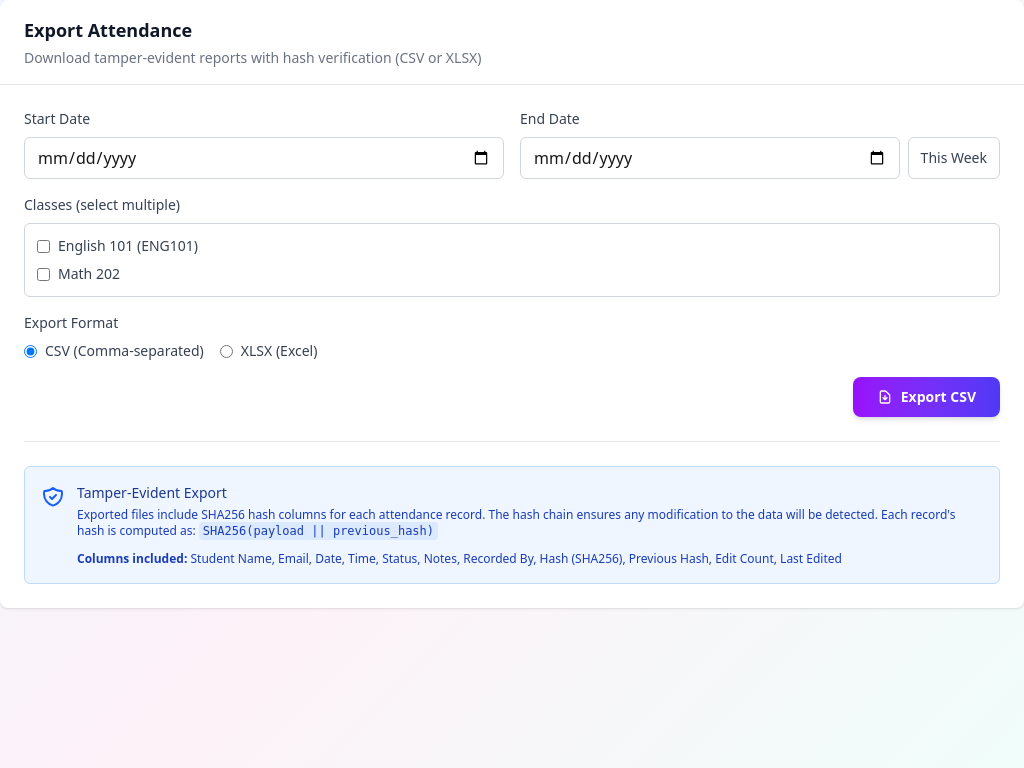
AttendanceExport Component › should display export metadata after successful export
Select a class and set dates
Click the checkbox labelled "English 101 (ENG101)" at (44, 246), box left=37, top=240, right=50, bottom=252
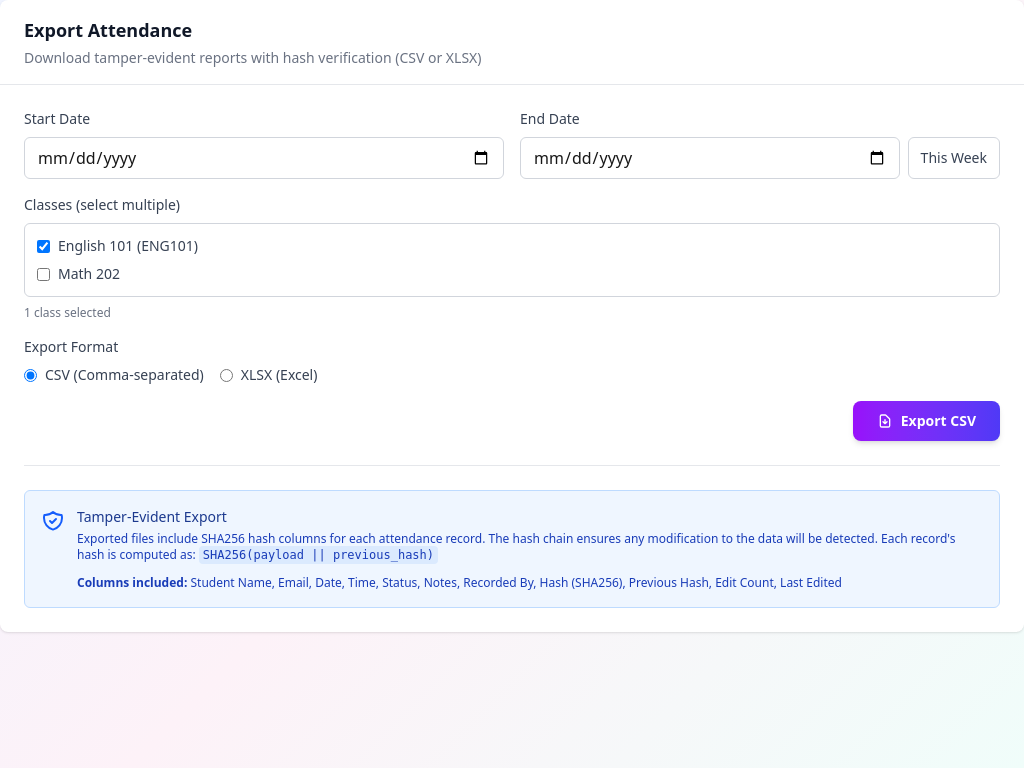
Type "2024-01-08" into the date field labelled "Start Date" at (264, 158), box left=24, top=137, right=504, bottom=179
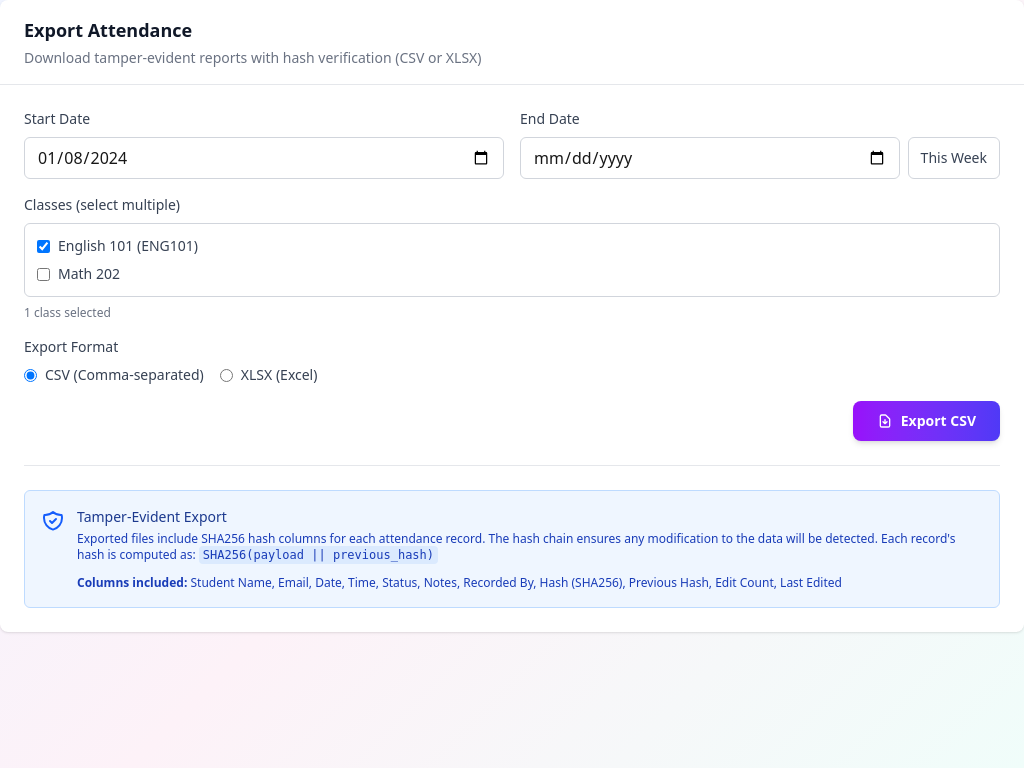
Type "2024-01-14" into the date field labelled "End Date" at (710, 158), box left=520, top=137, right=900, bottom=179
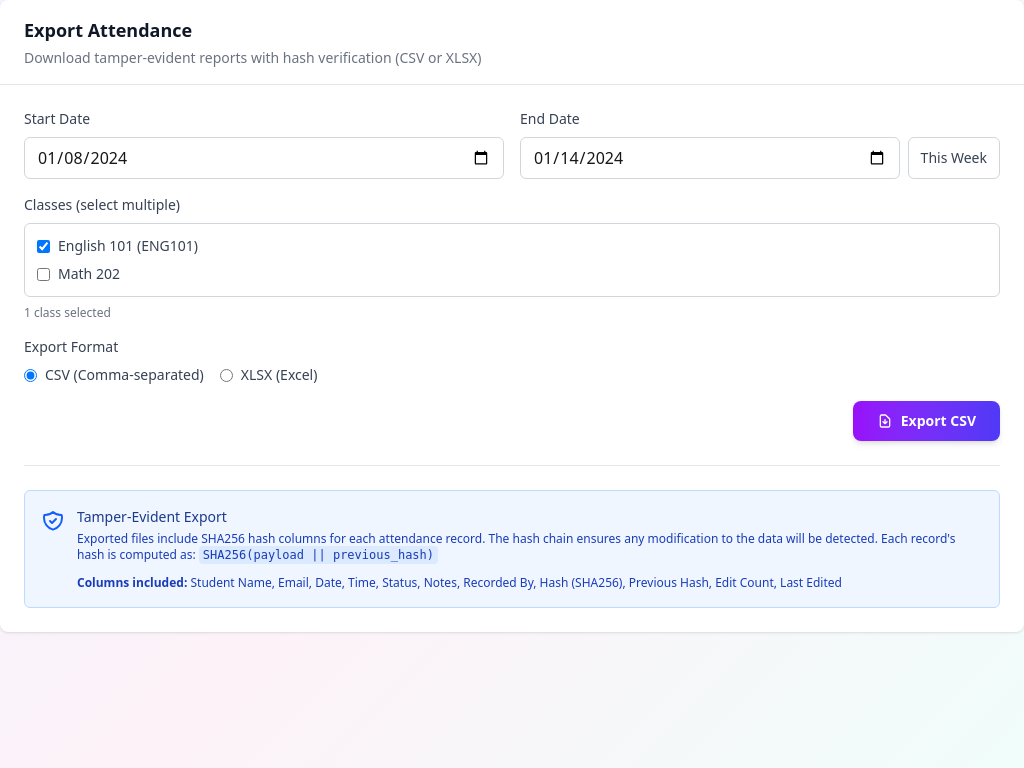
Click the button "Export CSV" at (926, 421), box left=853, top=401, right=1000, bottom=441
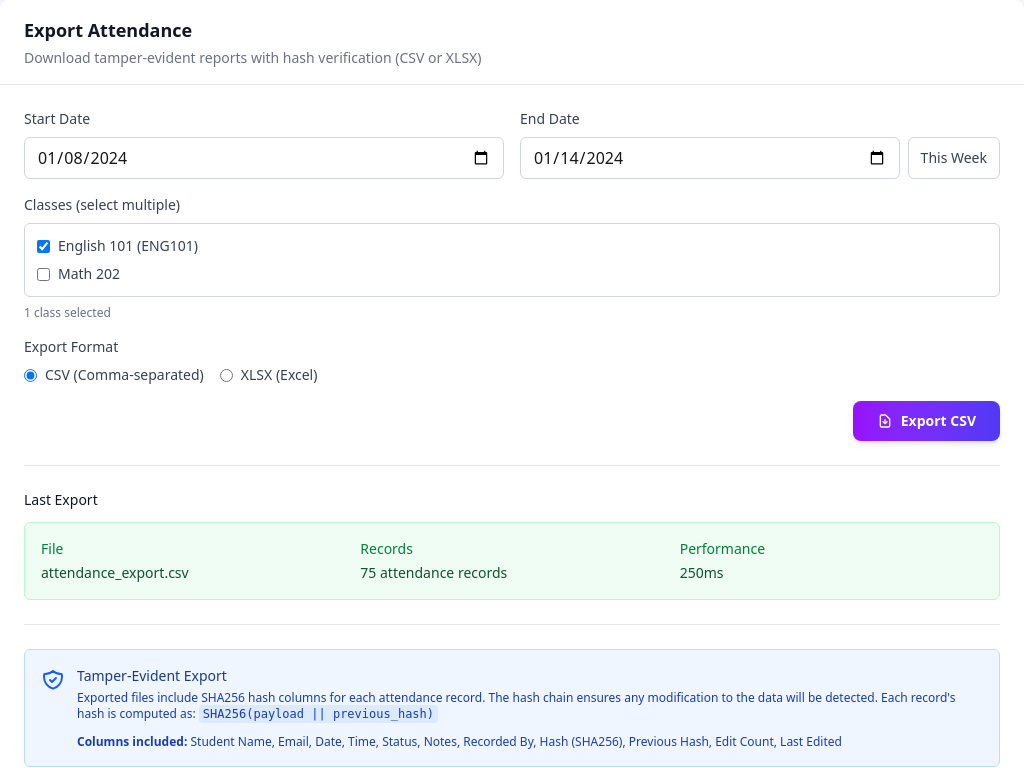
Result: the heading "Last Export" is shown at left=24, top=490, right=98, bottom=509
Result: the text "attendance_export.csv" is shown at left=41, top=563, right=189, bottom=582
Result: the text "75 attendance records" is shown at left=360, top=563, right=507, bottom=582
